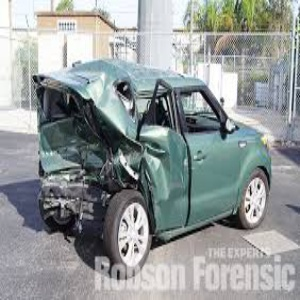bumper: (41, 150, 109, 219)
